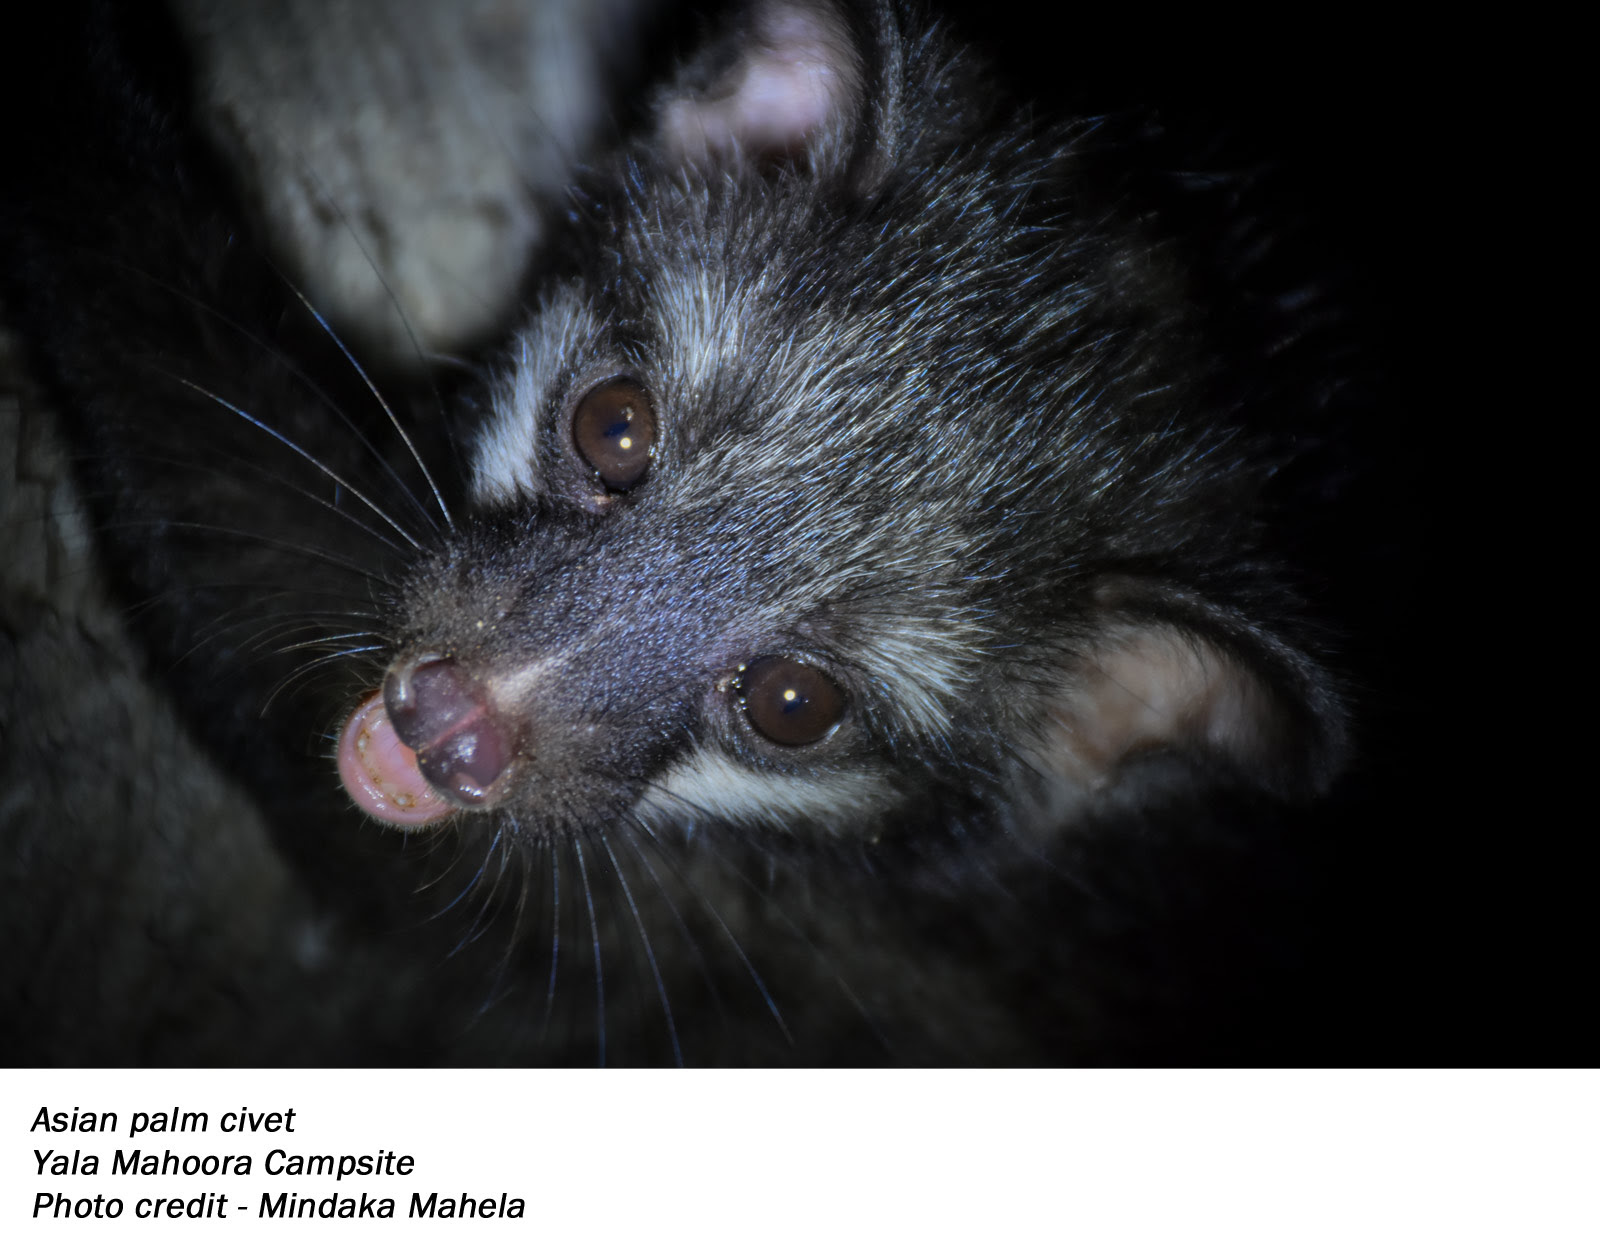Civet: (292, 84, 1303, 867)
